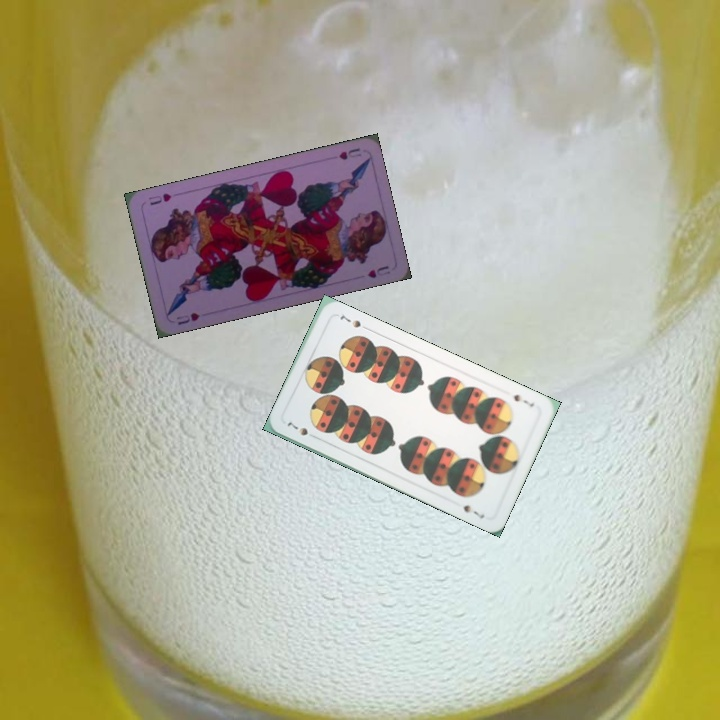HU: (172, 308, 202, 328), (335, 144, 364, 162)
S7: (283, 418, 320, 441), (510, 390, 537, 410)
